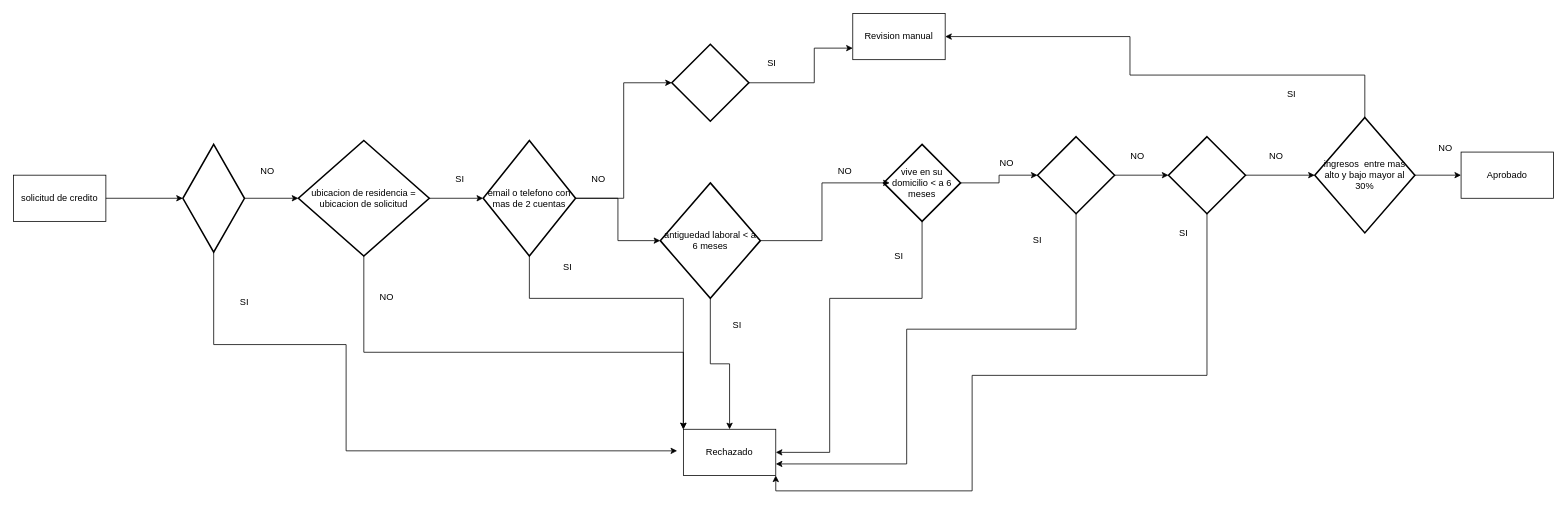
Image size: 1567x511. Some labels were removed from this diagram. Here are the shapes that lost their labels. From the top down, the centre of each, then its label:
the point at 710,82: antiguedad laboral entre 6 y 12 meses
the point at 1075,175: ingresos netos menores a 10000
the point at 1206,175: tiene atrasos en buro
the point at 213,198: tiempo de llenado menor a 60seg
